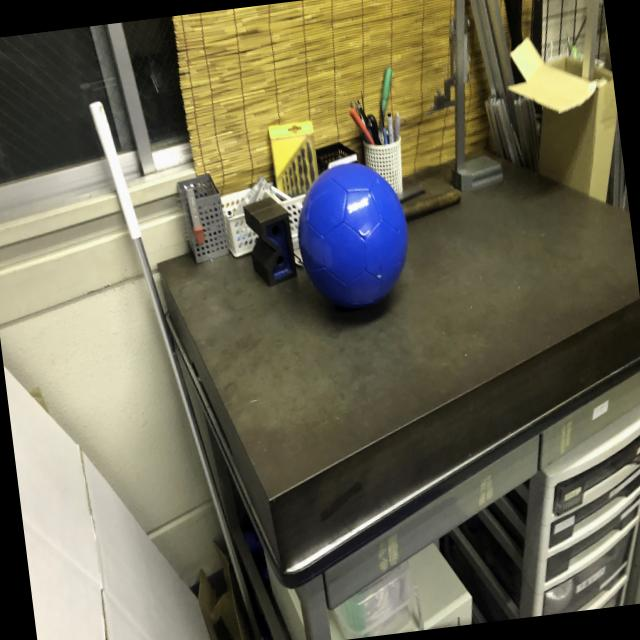blue_ball: (291, 153, 414, 315)
